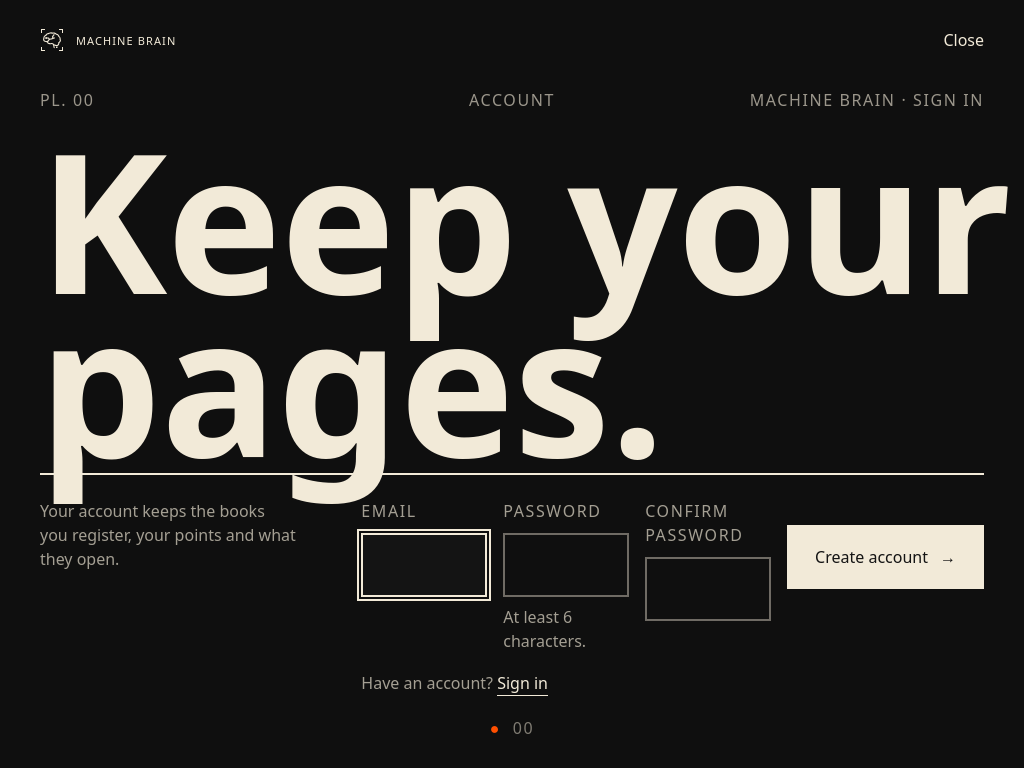
Test: AuthModal (S3 plate) › shows Check your email when sign-up needs confirming
The image size is (1024, 768).
In the field labelled "Email": (424, 565) [361,533,487,597], type "you@example.com"
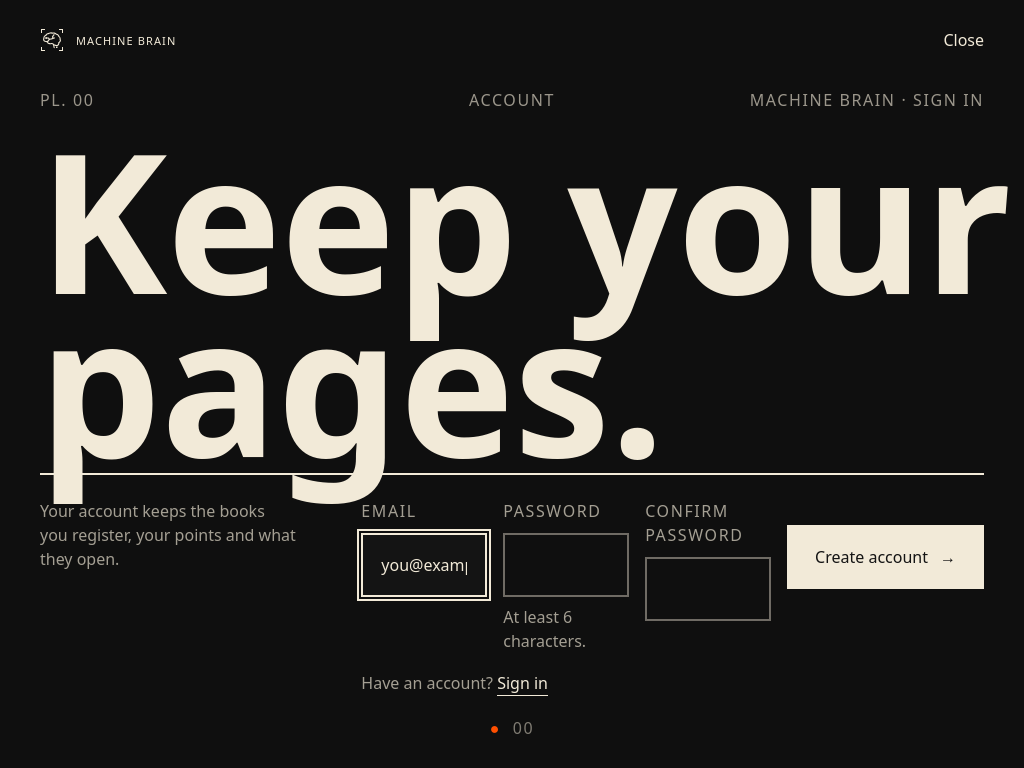
In the password field labelled "Password": (566, 565) [503,533,629,597], type "secret1"
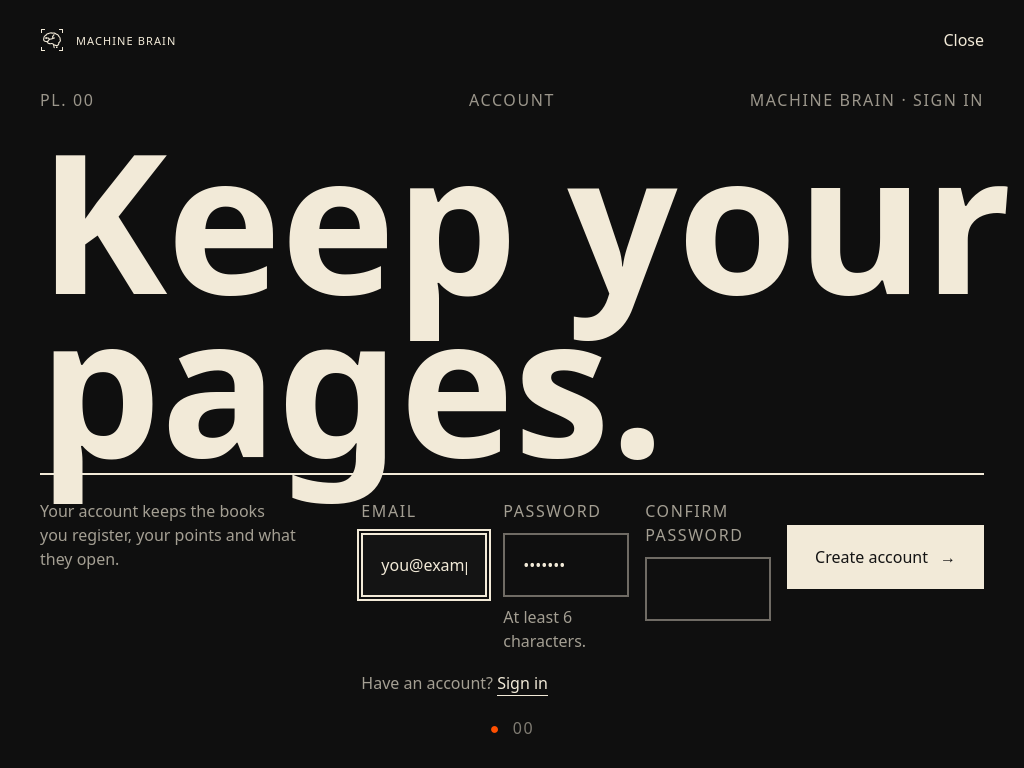
In the password field labelled "Confirm password": (708, 589) [645,557,771,621], type "secret1"
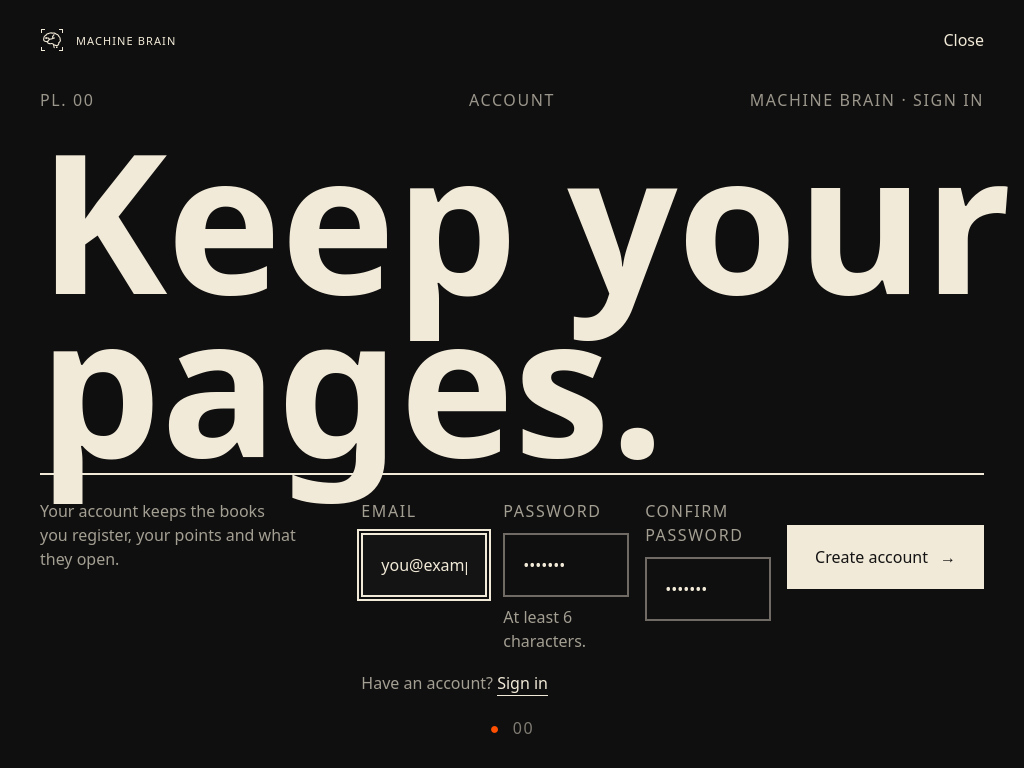
Submit the form "account", box [361,499,984,696]
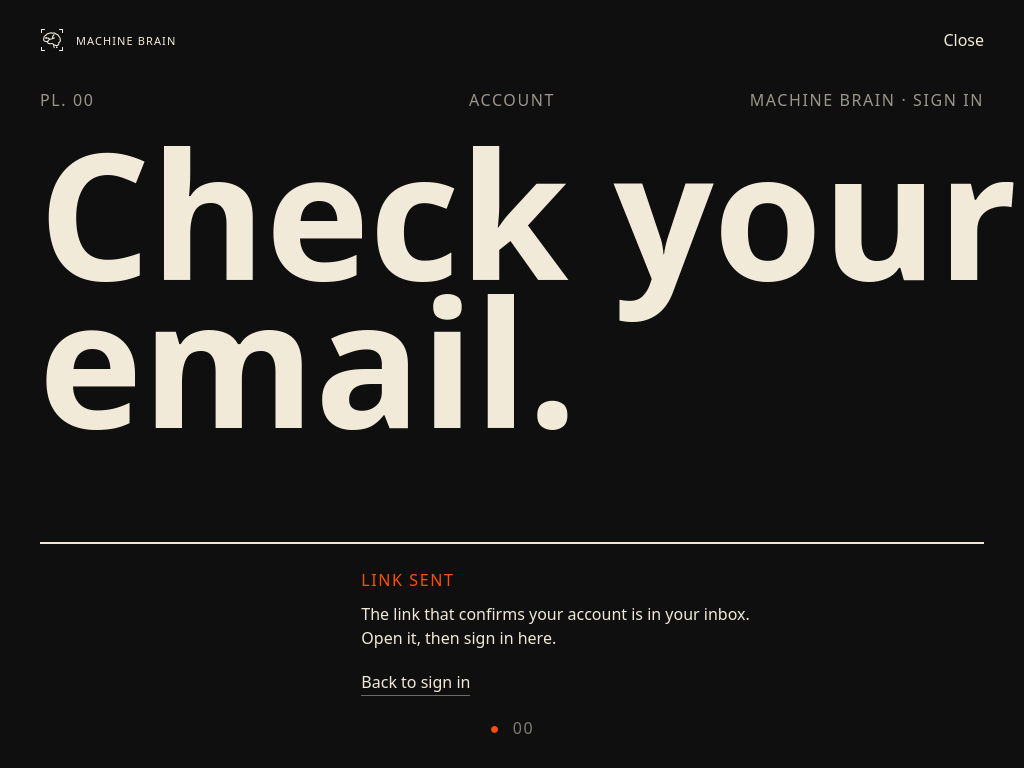
Now the message with test id "auth-check" shows "Link sent", box [361,569,454,591]
Now the heading reads "Check your email.", box [38,142,984,431]
